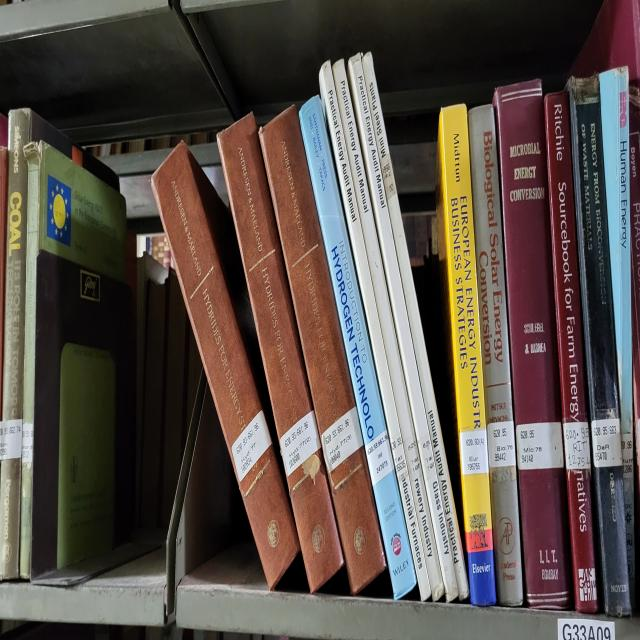Book: (151, 146, 299, 587), (260, 106, 385, 593), (219, 114, 344, 590), (300, 97, 416, 598), (494, 78, 571, 609), (569, 76, 631, 614), (436, 106, 496, 606), (544, 92, 598, 611), (469, 106, 522, 606)
Label: (231, 411, 271, 482), (280, 411, 321, 476), (321, 406, 362, 471), (516, 422, 564, 471), (365, 430, 394, 487), (591, 419, 621, 468), (460, 427, 489, 476), (488, 419, 516, 468), (564, 422, 590, 471)
